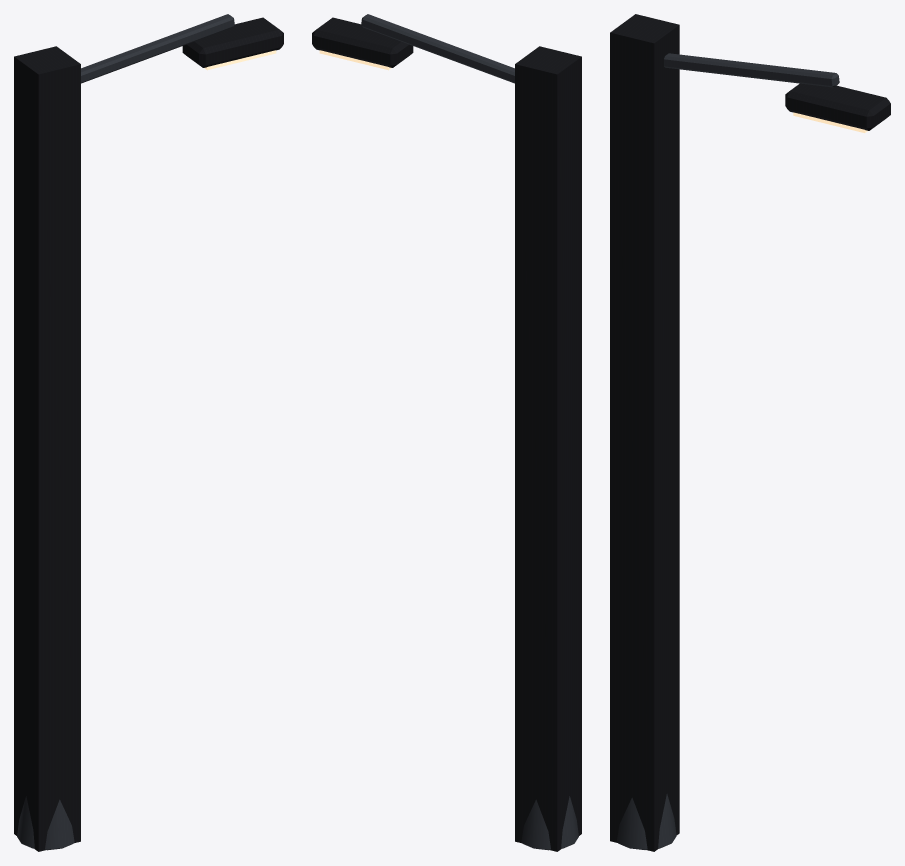
The model's file is kit_streetlight.glb.
3 views of the same model, side by side, from view 1: azimuth 30°, elevation 25°; view 2: azimuth 150°, elevation 25°; view 3: azimuth 330°, elevation 25° (orthographic). The views are drawn at different scales.
Parts seen in each view (by area): view 1: sl_COL, sl_head, sl_arm, sl_base; view 2: sl_COL, sl_head, sl_arm, sl_base; view 3: sl_COL, sl_head, sl_arm, sl_base.
Boxes of the visible parts, x1=… form: sl_COL: x1=14, y1=46, x2=80, y2=851; sl_head: x1=182, y1=17, x2=283, y2=67; sl_arm: x1=81, y1=14, x2=234, y2=83; sl_base: x1=17, y1=796, x2=74, y2=850; sl_COL: x1=515, y1=46, x2=581, y2=851; sl_head: x1=312, y1=17, x2=413, y2=67; sl_arm: x1=361, y1=14, x2=514, y2=83; sl_base: x1=521, y1=796, x2=578, y2=850; sl_COL: x1=610, y1=14, x2=679, y2=851; sl_head: x1=785, y1=83, x2=890, y2=130; sl_arm: x1=664, y1=53, x2=839, y2=87; sl_base: x1=617, y1=794, x2=676, y2=849.
Bounding box in the file's own units: 2.4 × 7 × 0.4977.
Materials: 3 (3 with a texture image).
